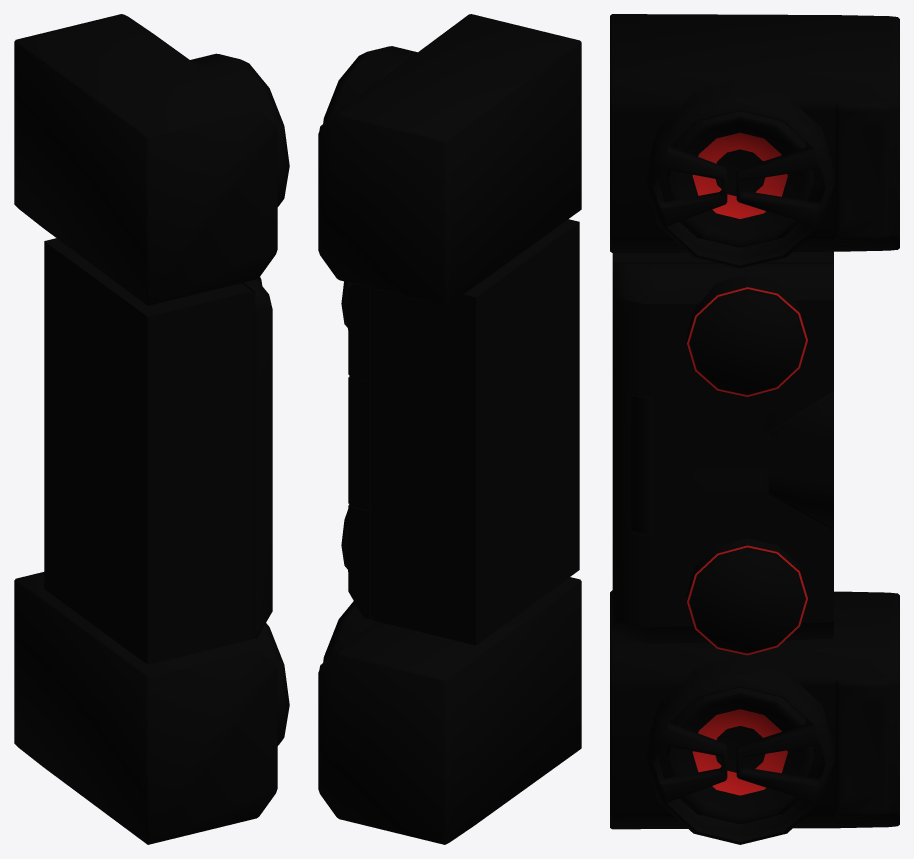
3 renders of one model, left to right at view 1: azimuth 30°, elevation 25°; view 2: azimuth 150°, elevation 25°; view 3: azimuth 270°, elevation 25°, orthographic. The views are drawn at different scales.
Visible parts, largest first — view 1: Cube; view 2: Cube; view 3: Cube.
Part boxes in pixels (left/top/right/bottom): Cube: left=14, top=14, right=289, bottom=844; Cube: left=318, top=14, right=581, bottom=844; Cube: left=610, top=14, right=899, bottom=844.
Size of the model in its own units: 38.52 by 159 by 54.97.
